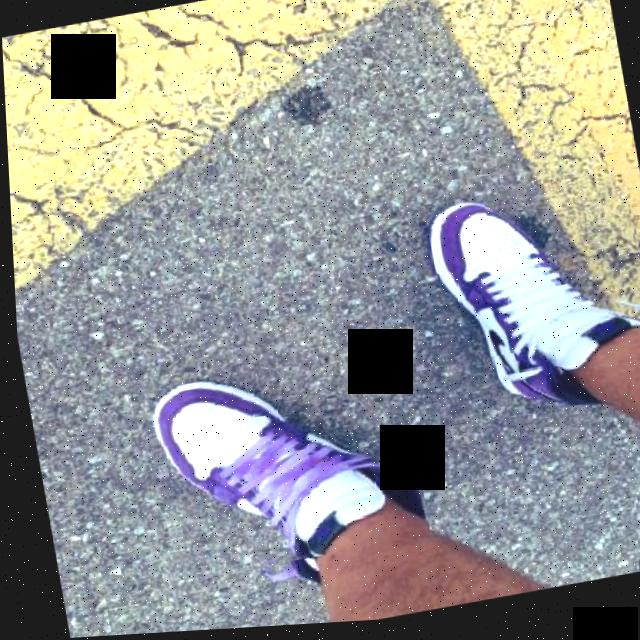shoe: (137, 349, 426, 587), (411, 176, 640, 433)
